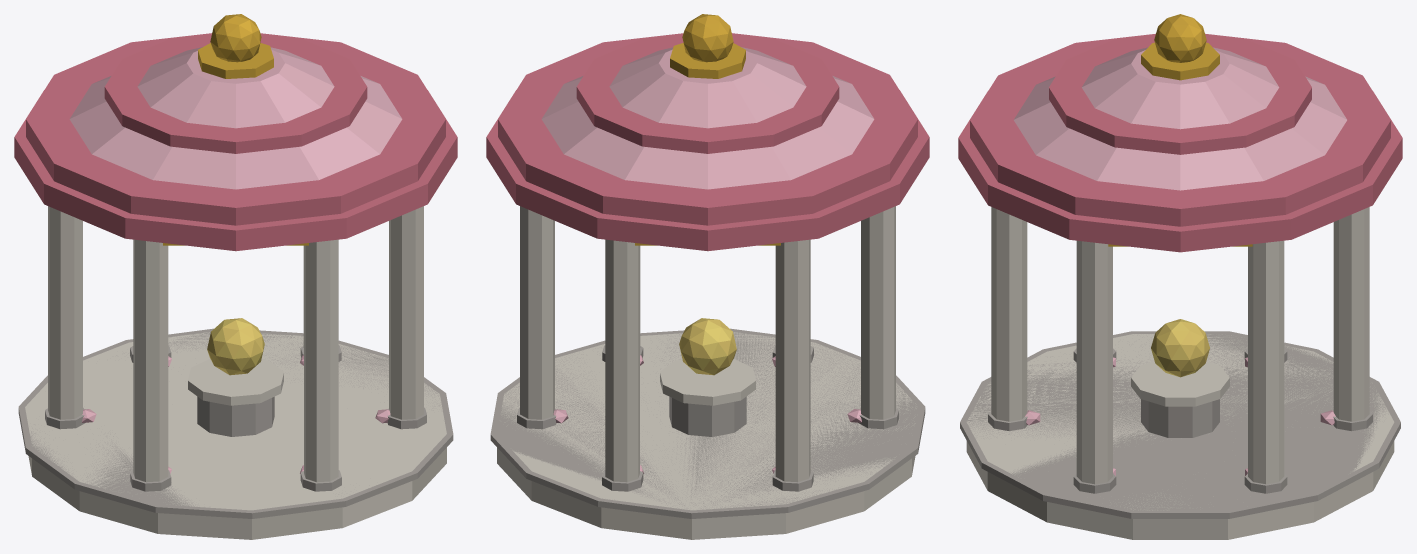
The model's file is Decor_CloudTemple_Pavilion.fbx.
The picture shows the model from 3 angles, left to right: view 1: azimuth 30°, elevation 25°; view 2: azimuth 150°, elevation 25°; view 3: azimuth 270°, elevation 25°; orthographic projection.
Visible parts, largest first — view 1: Pavilion_Body; view 2: Pavilion_Body; view 3: Pavilion_Body.
Part boxes in pixels (x1=…): Pavilion_Body: x1=14, y1=14, x2=457, y2=539; Pavilion_Body: x1=486, y1=14, x2=929, y2=539; Pavilion_Body: x1=958, y1=14, x2=1402, y2=539.
Bounding box in the file's own units: 13.5 × 14.6 × 13.5.
